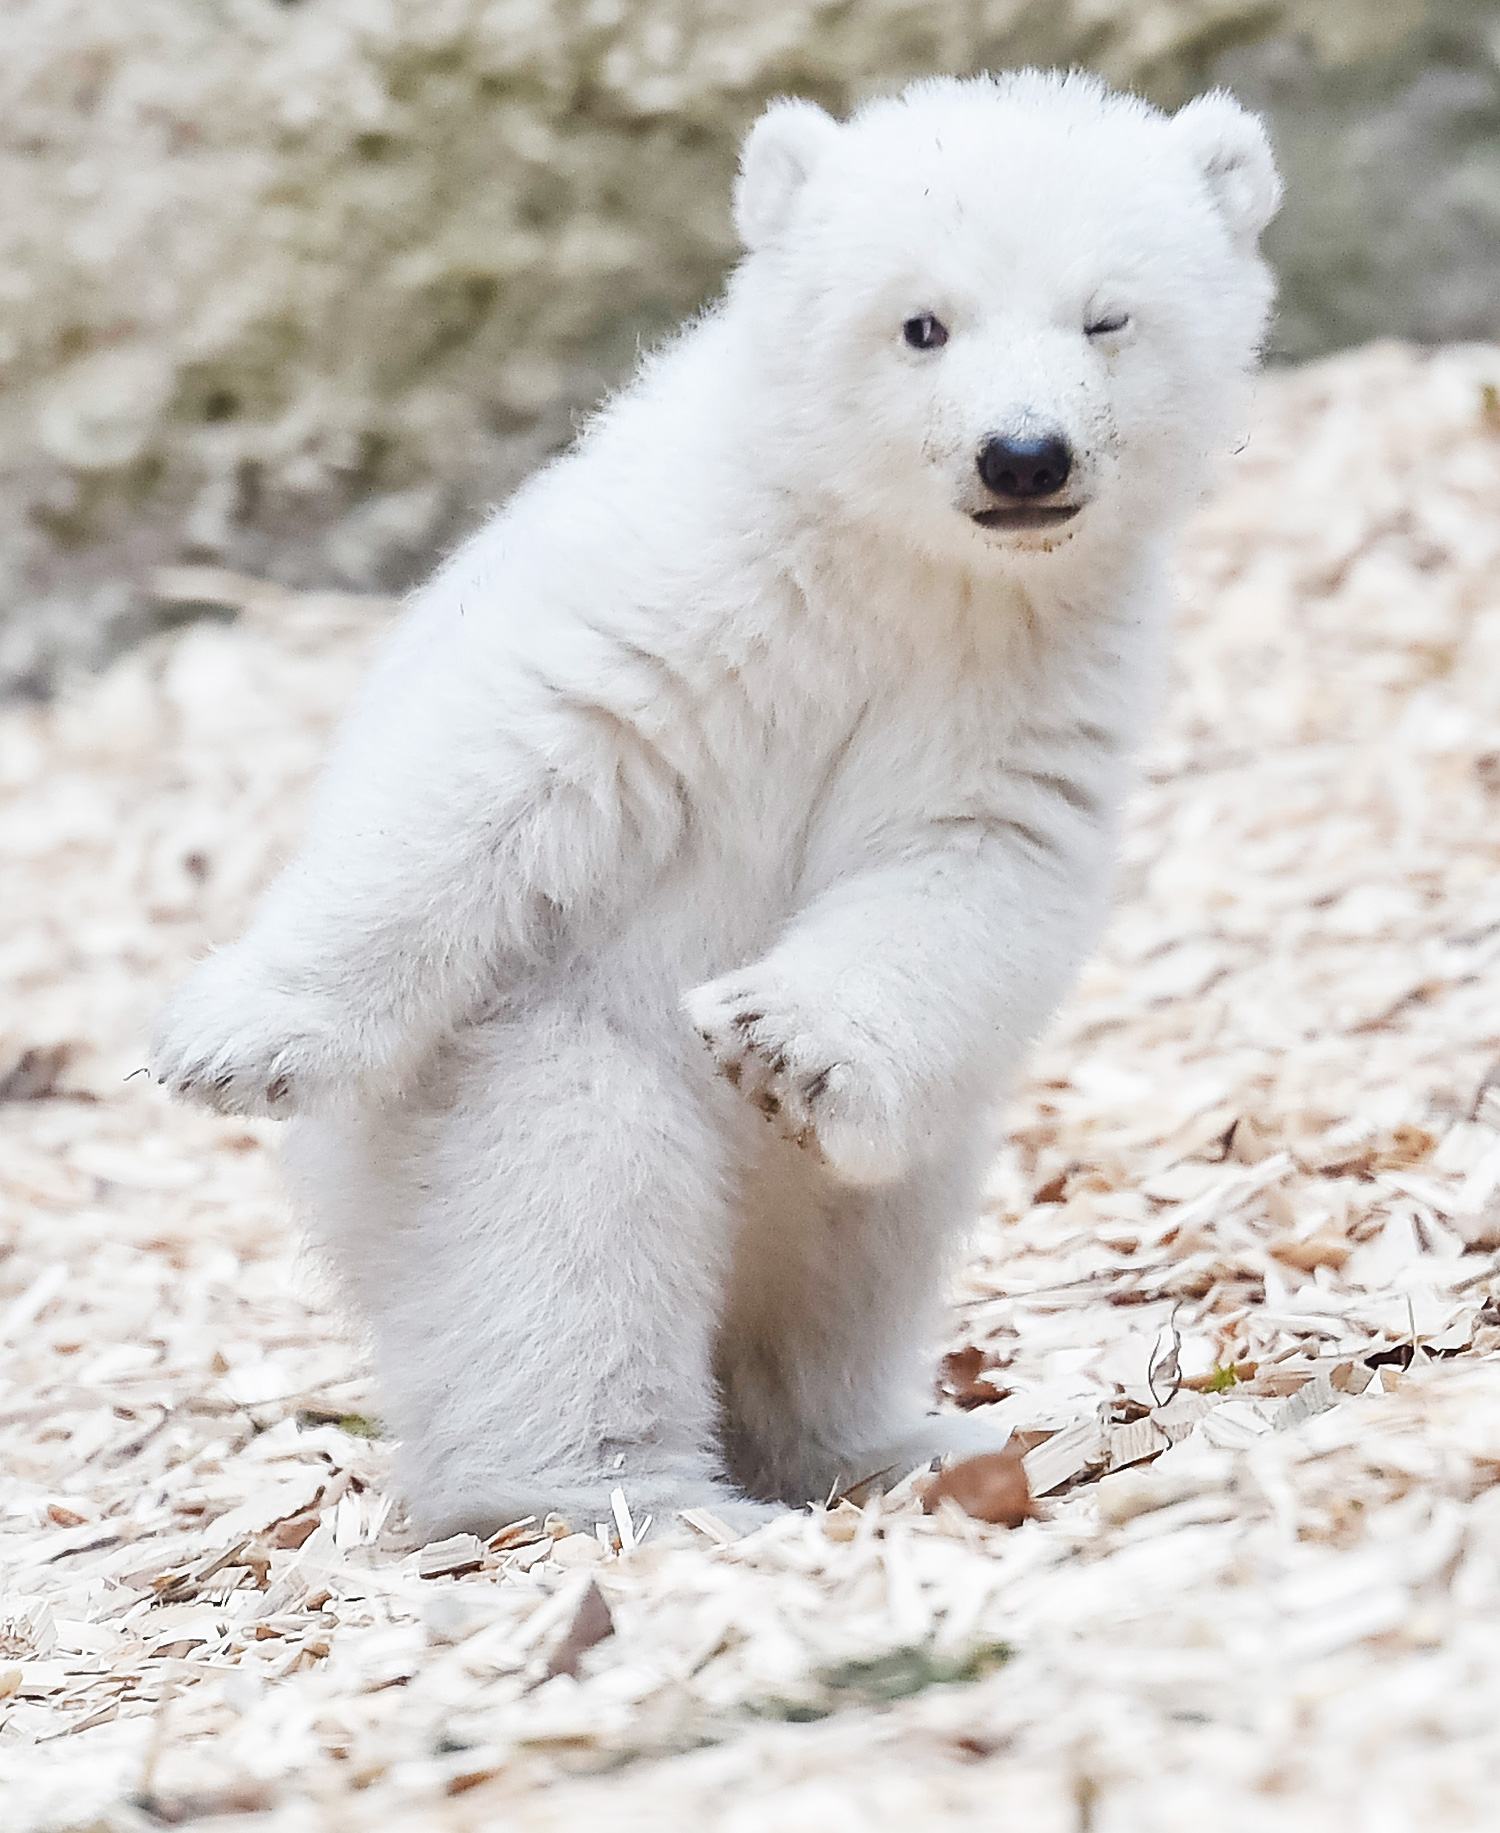Polar Bear: (203, 33, 1339, 1644)
